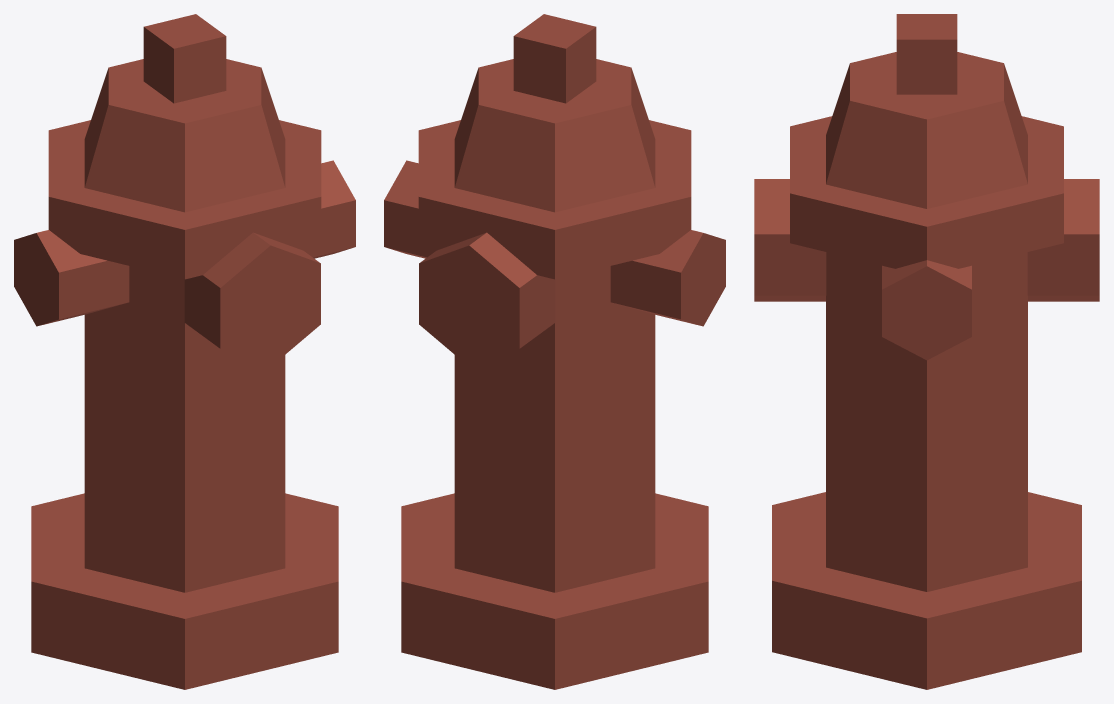
The model's file is SM_Prop_FireHydrant_01.fbx.
3 views of the same model, side by side, from view 1: azimuth 30°, elevation 25°; view 2: azimuth 150°, elevation 25°; view 3: azimuth 270°, elevation 25° (orthographic).
Visible parts, largest first — view 1: SM_Prop_FireHydrant_01; view 2: SM_Prop_FireHydrant_01; view 3: SM_Prop_FireHydrant_01.
Boxes of the visible parts, box(x1,y1,x2,y2) form: SM_Prop_FireHydrant_01: box(14, 14, 355, 689); SM_Prop_FireHydrant_01: box(384, 14, 725, 689); SM_Prop_FireHydrant_01: box(754, 14, 1099, 689).
Size of the model in its own units: 24.52 by 44.45 by 23.68.
